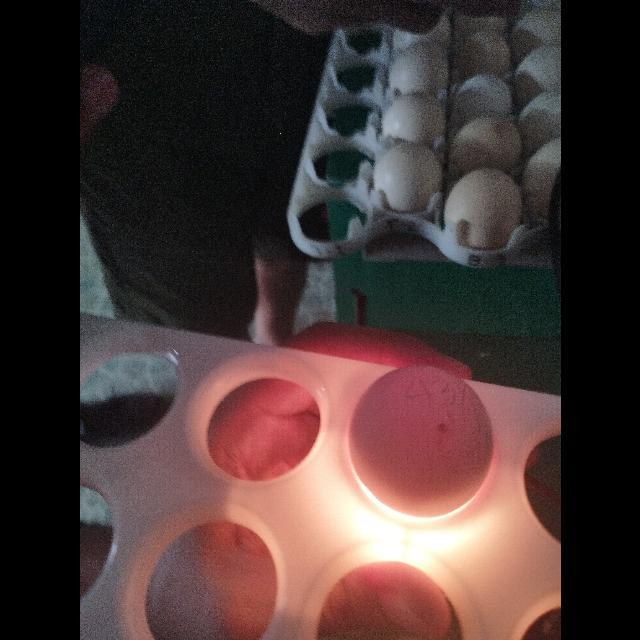Fertile: (346, 363, 498, 521)
